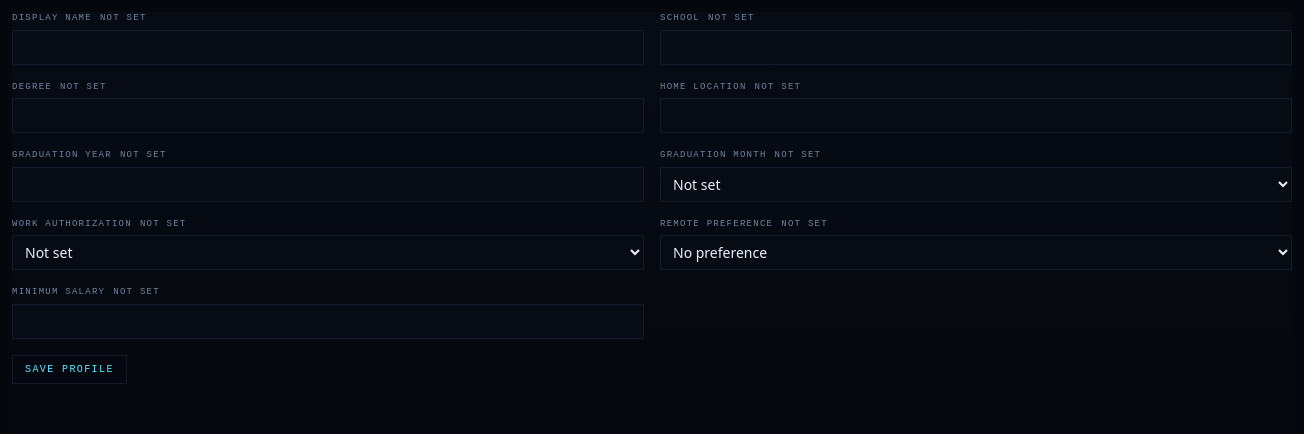
Test: ProfileForm › refuses a graduation month with no year, before the request is made
Select "May" in the dropdown labelled "Graduation month" at (976, 184), box [660,166,1292,202]
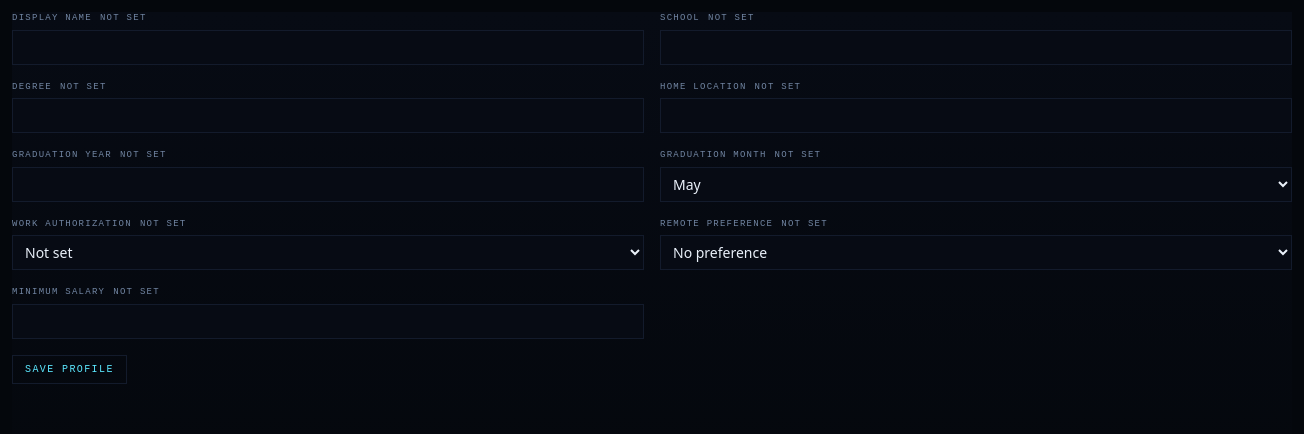
Click the button "Save profile".
click(69, 369)  # box [12,354,127,384]
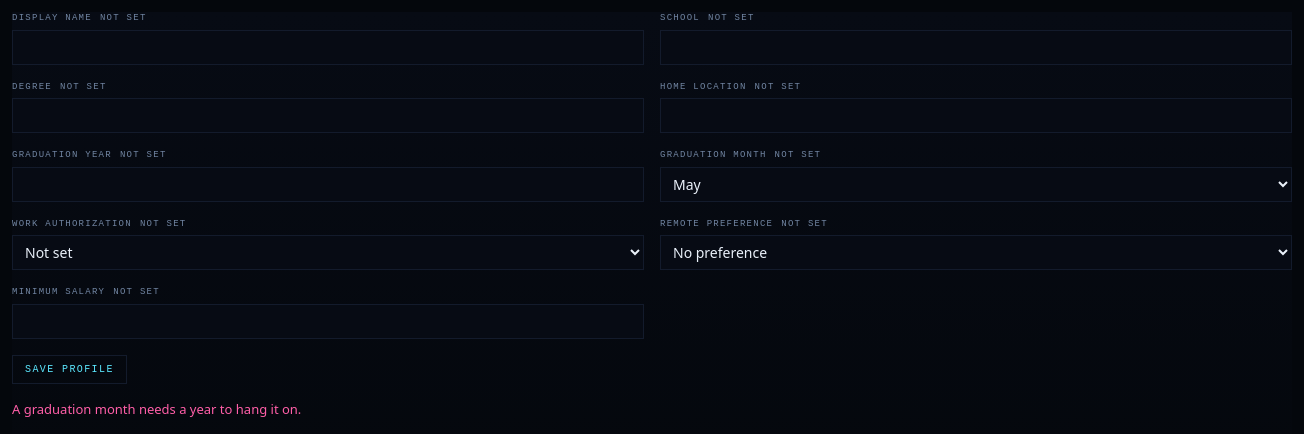
Expected: the message shows "needs a year", [12,400,301,418]
